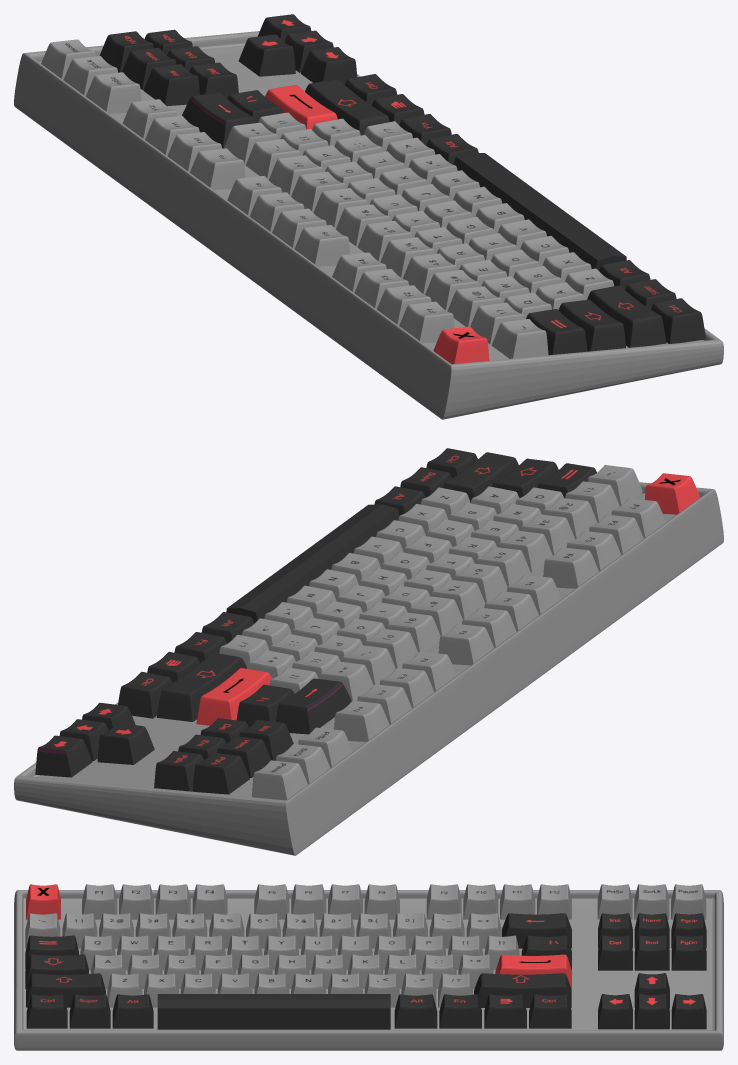
Rendered from tkl_keyboard_8008.glb.
The picture shows the model from 3 angles, top to bottom: view 1: azimuth 30°, elevation 25°; view 2: azimuth 150°, elevation 25°; view 3: azimuth 270°, elevation 25°; orthographic projection. The views are drawn at different scales.
Visible parts, largest first — view 1: Keyboard Body; view 2: Keyboard Body; view 3: Keyboard Body.
Boxes of the visible parts, bbox=[...] form: Keyboard Body: bbox=[14, 14, 723, 419]; Keyboard Body: bbox=[14, 448, 723, 855]; Keyboard Body: bbox=[14, 884, 723, 1050].
Bounding box in the file's own units: 5.55 × 1.5 × 14.78.
2 materials, 1 textured.
